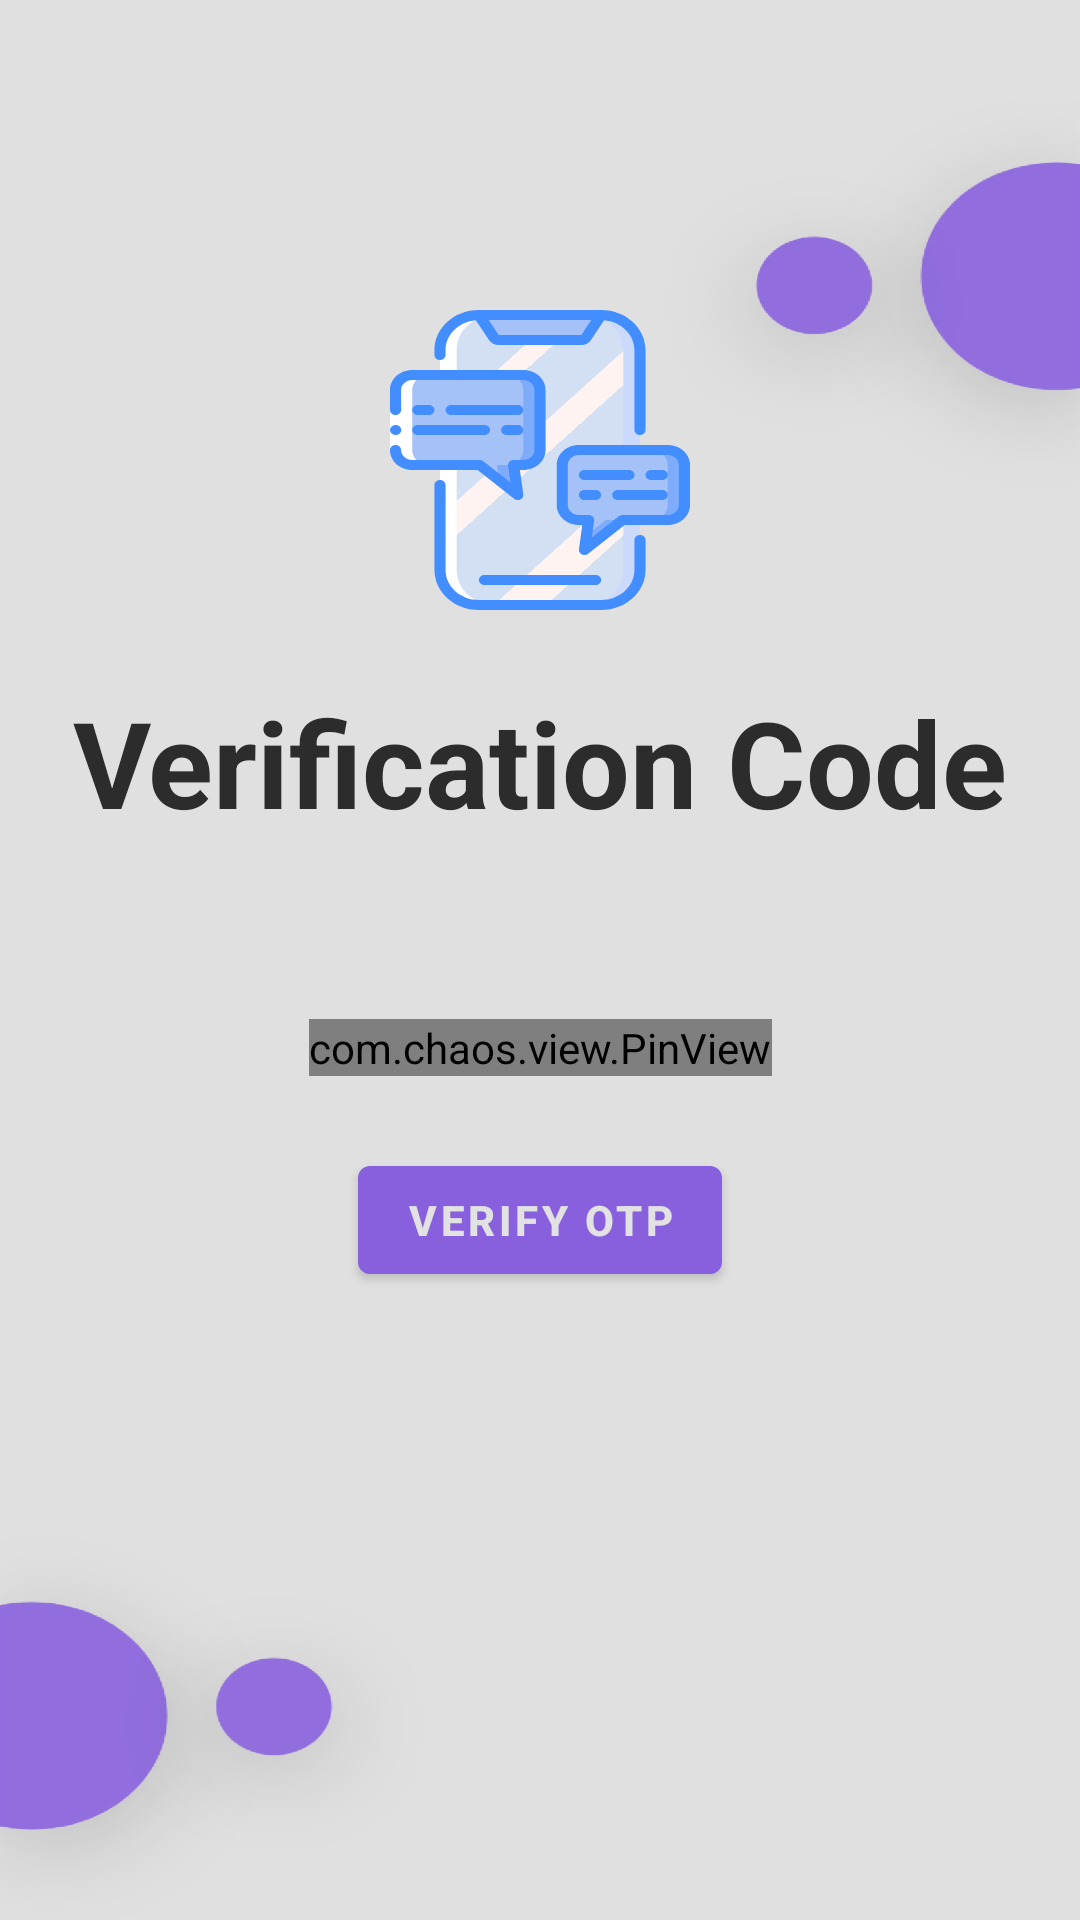

Named icons in this screenshot (1080 x 1920) and their centers, (x,y):
otpbg: (540,460)
